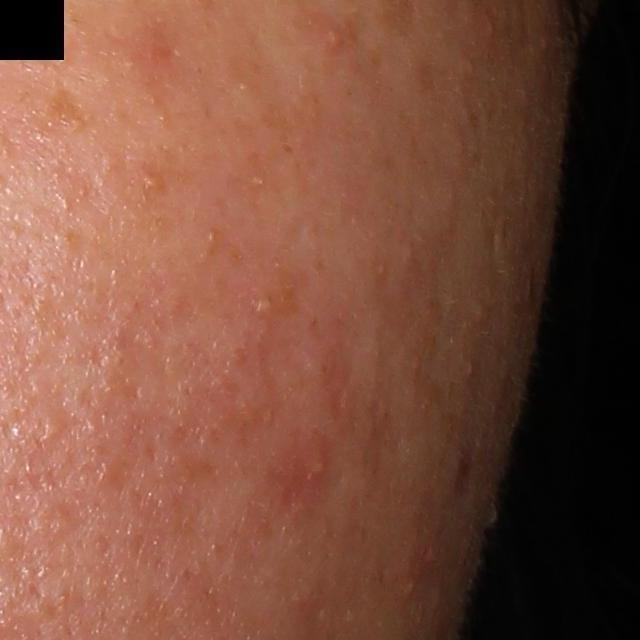comedo: (255, 294, 272, 314)
melasma: (41, 86, 89, 135)
papule: (325, 26, 345, 50)
